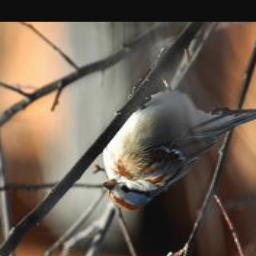Sparrow: (100, 79, 256, 213)
